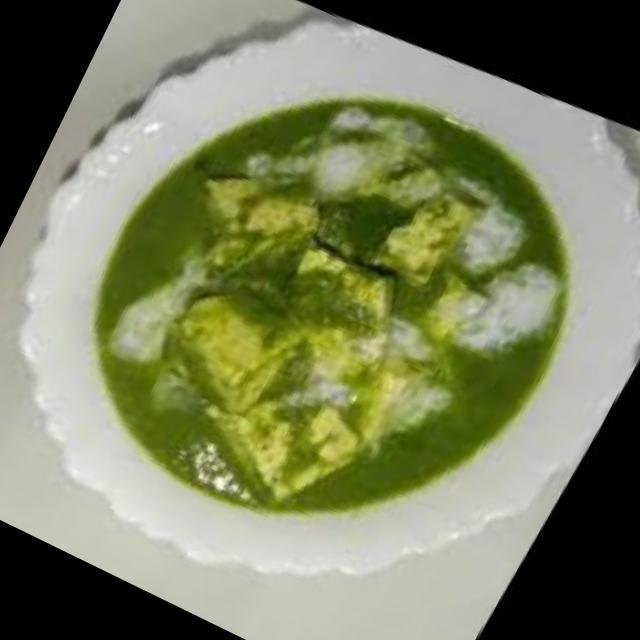palak_paneer: (19, 0, 640, 622)
